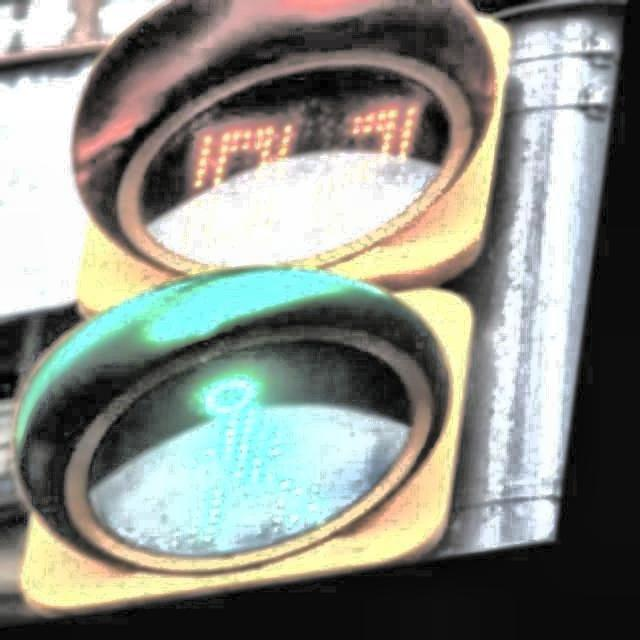semaforo pedestre: (0, 0, 567, 638)
